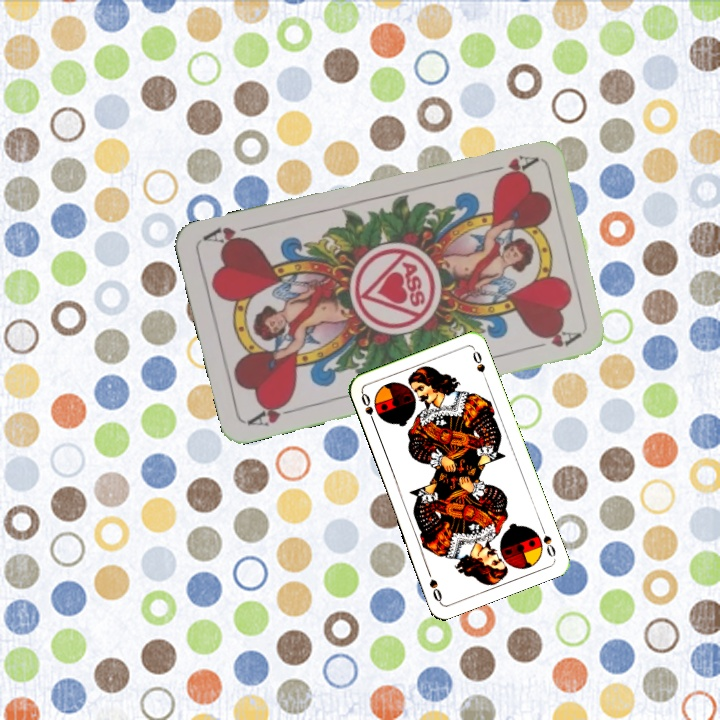HA: (244, 396, 303, 429), (480, 150, 539, 178)
SO: (357, 389, 378, 428), (537, 522, 558, 560)
